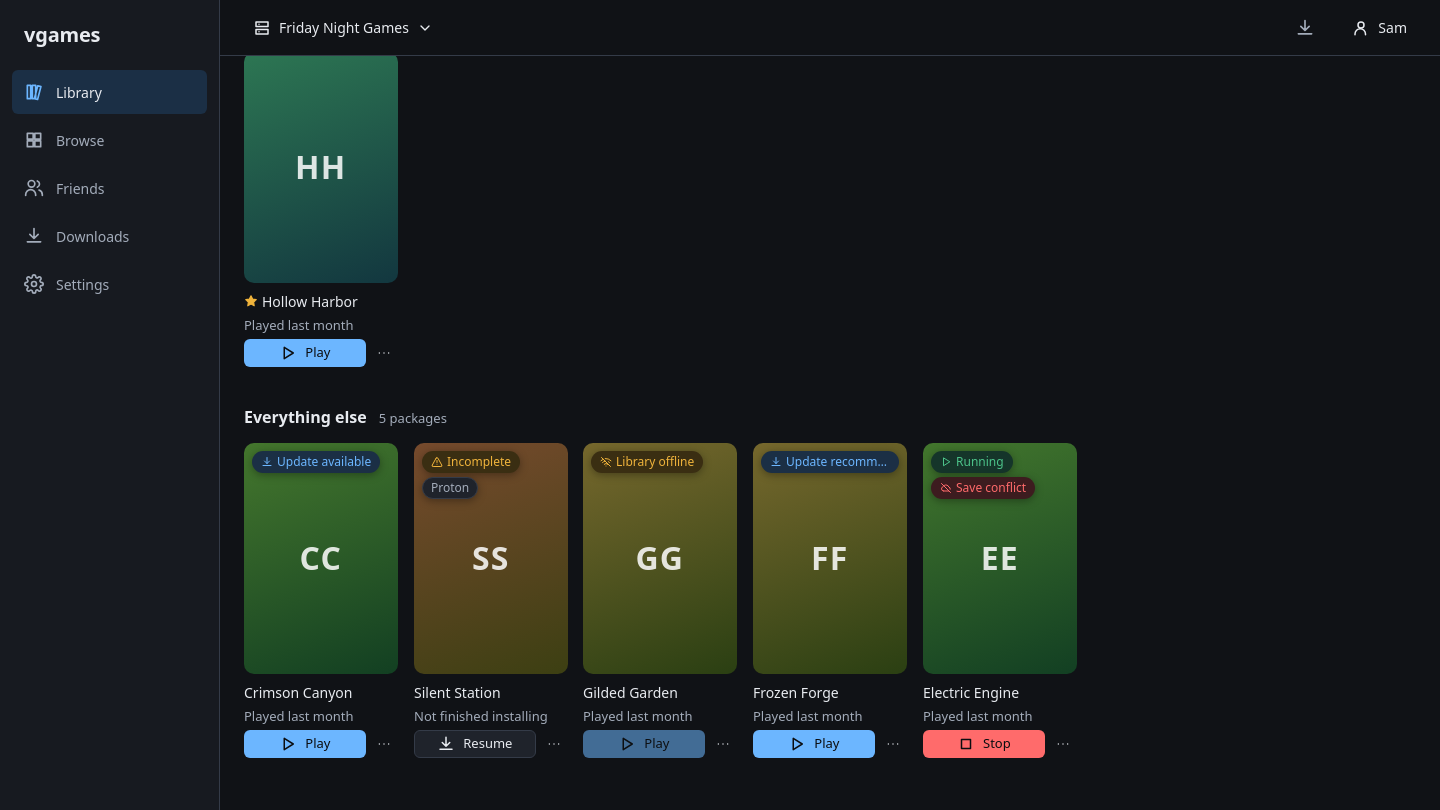
Test case: library › creates shortcuts and reports action errors
(page scrolled)
Expected: the element "Crimson Canyon" is shown, [244,443,398,758]
Click the button named "More actions for Crimson Canyon" at (384, 744), box [370,730,398,758]
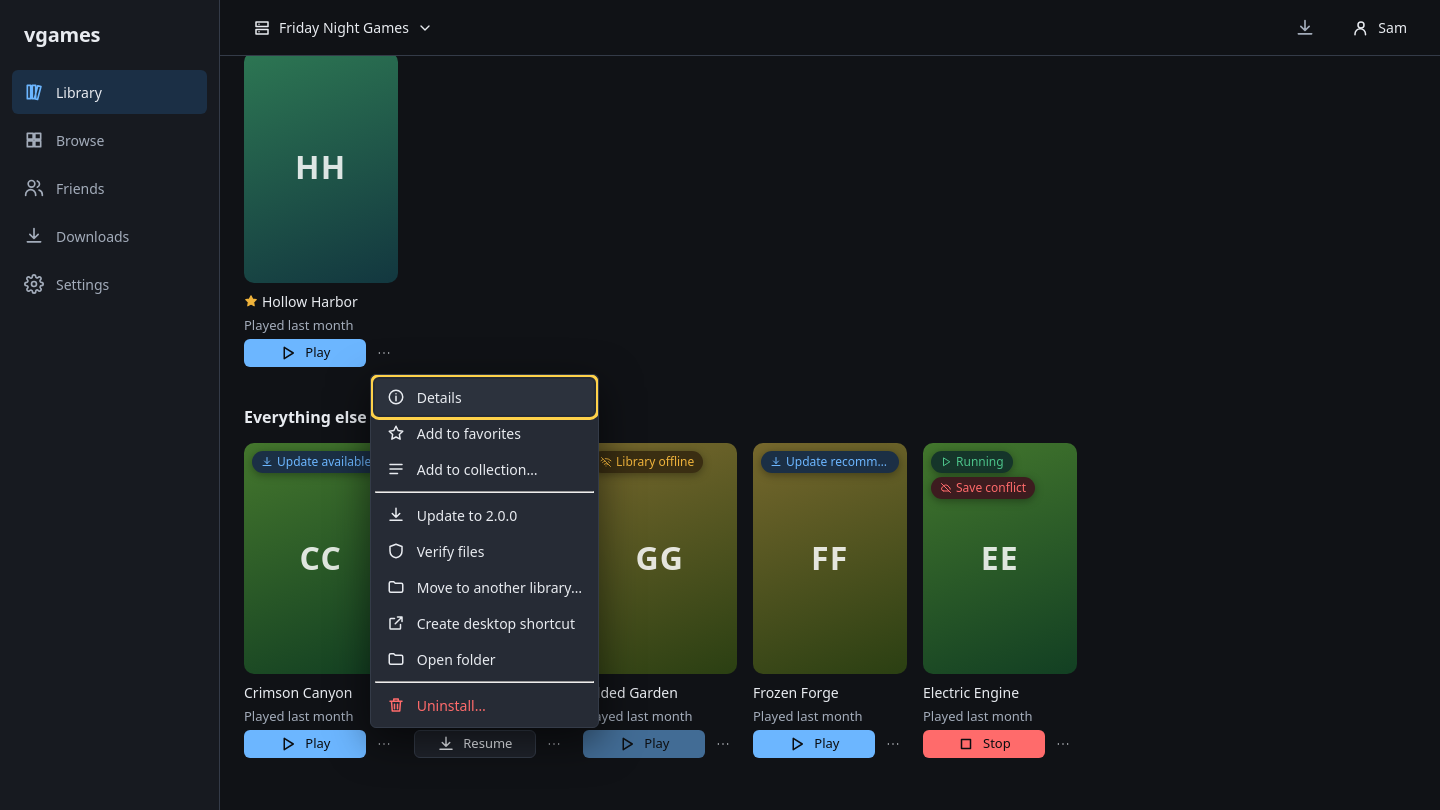
Click the menu item "Create desktop shortcut" at (484, 623), box [375,605,594,641]
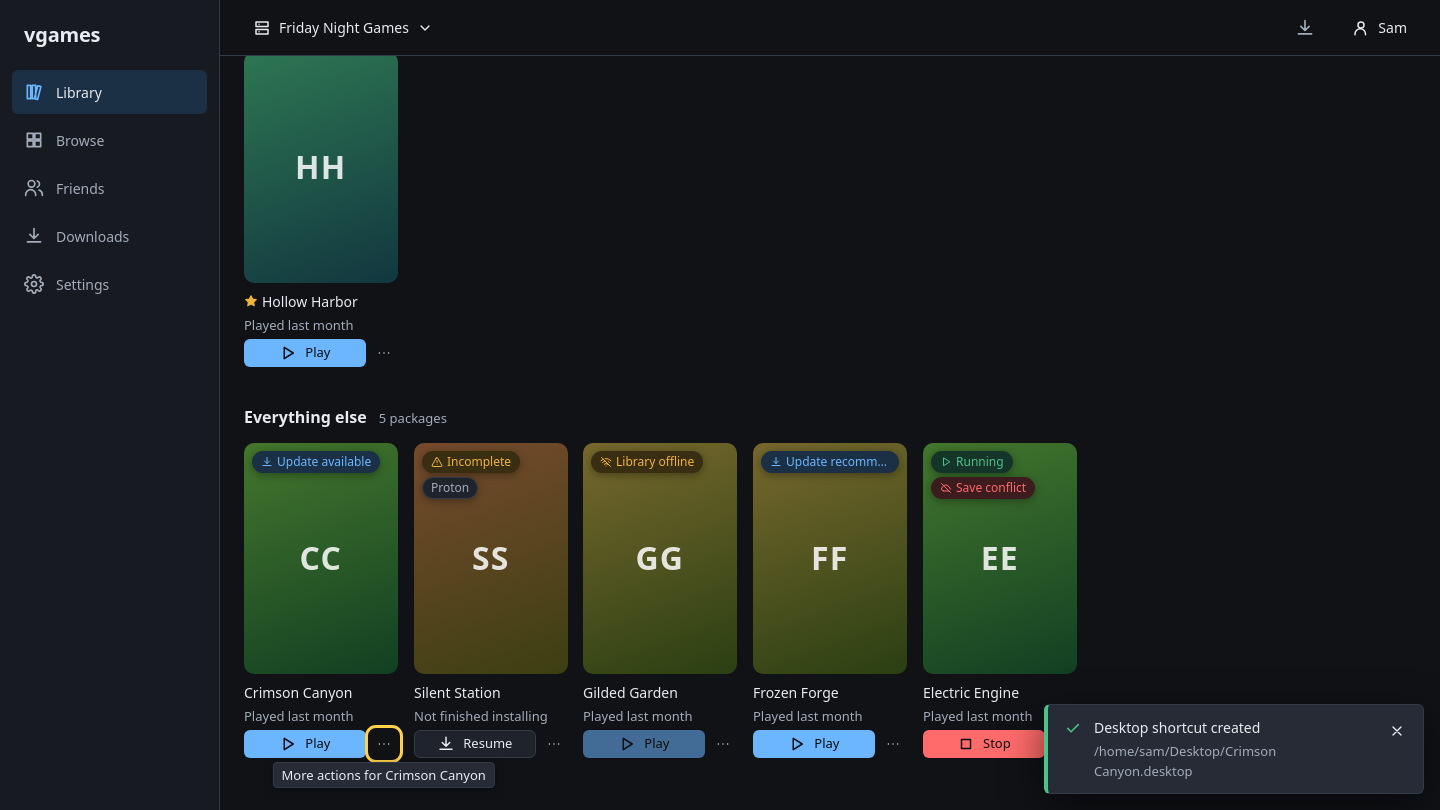
Result: the text "Desktop shortcut created" is shown at [1094,718,1260,737]
Click the button named "More actions for Crimson Canyon" at (384, 744), box [370,730,398,758]
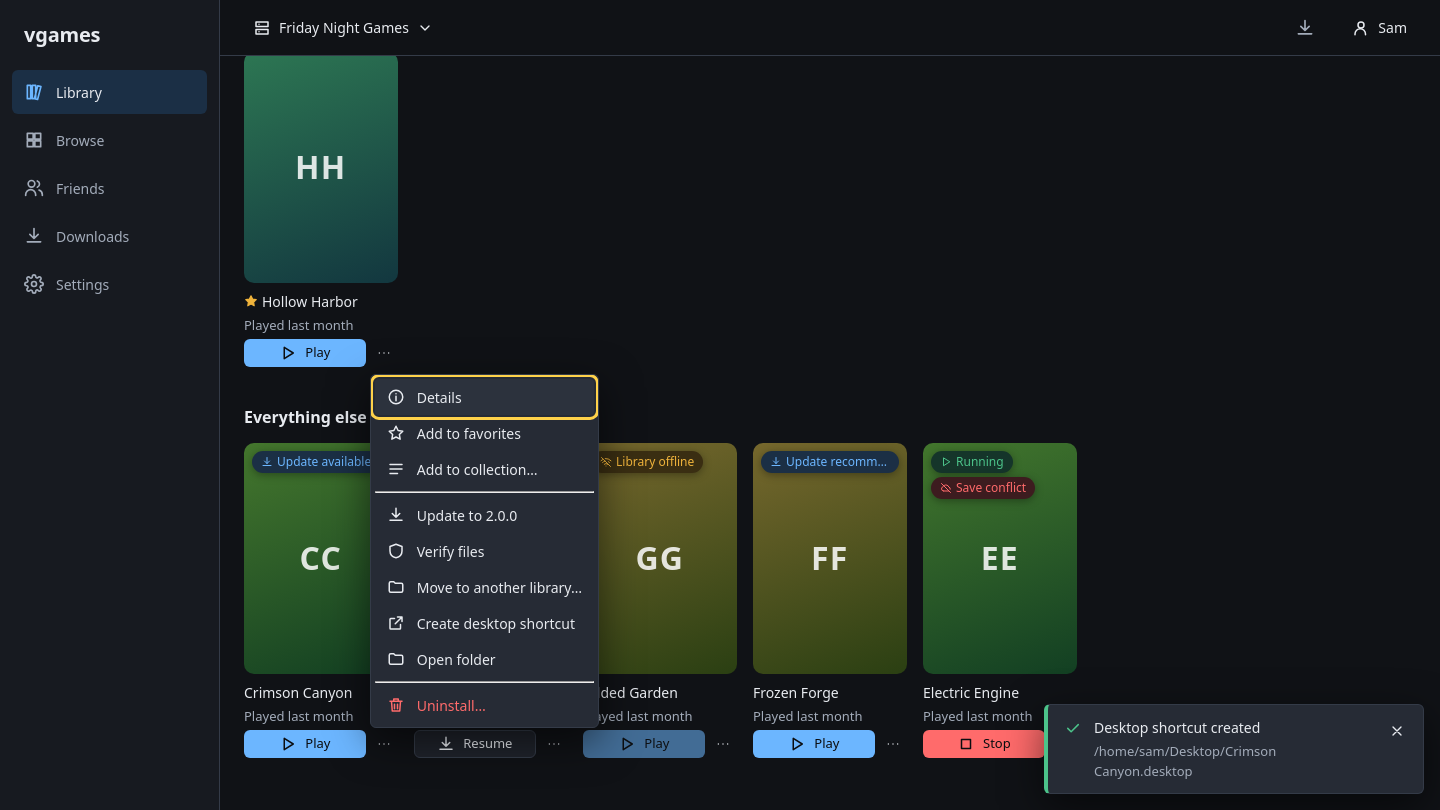
Click the menu item "Verify files" at (484, 551), box [375,533,594,569]
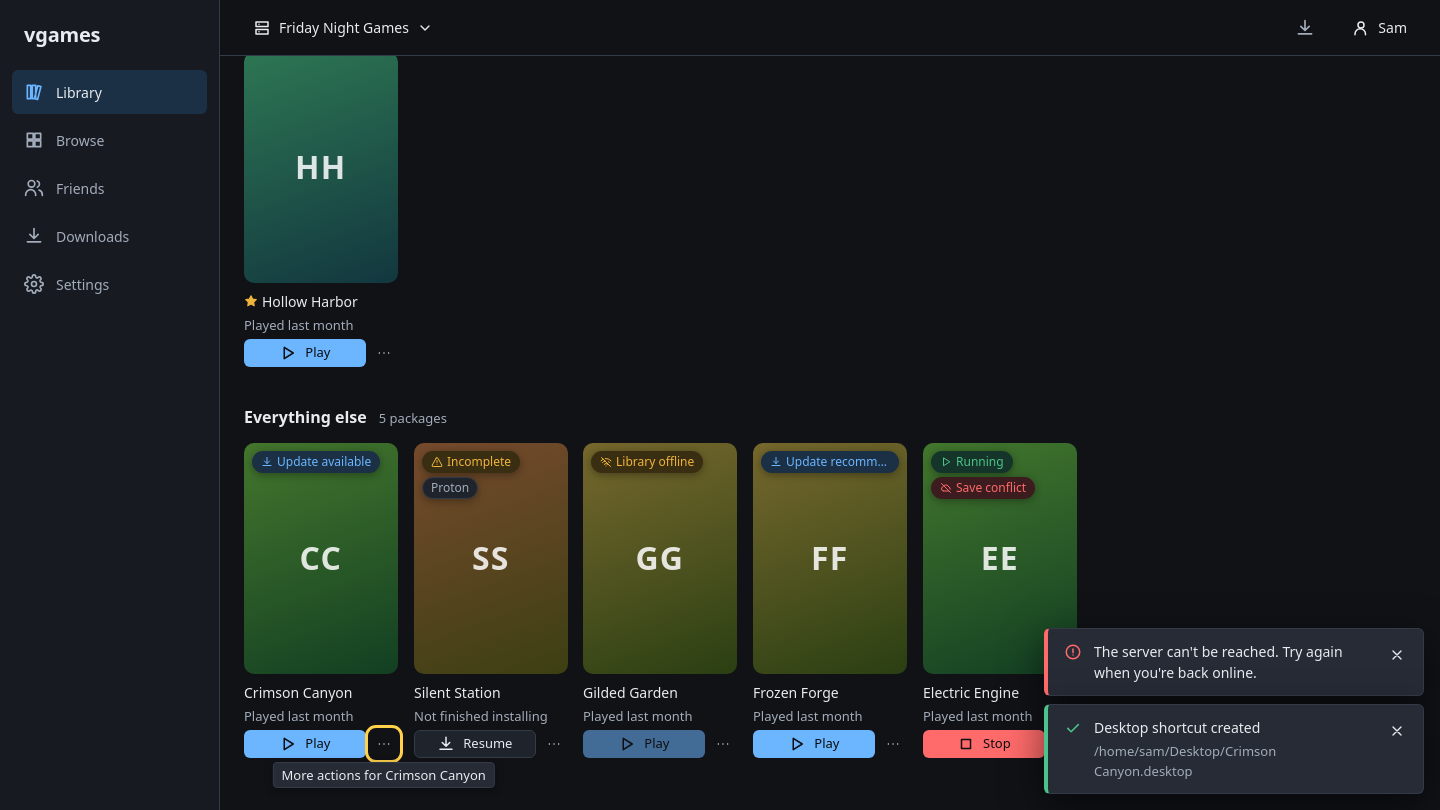
Result: the text "The server can't be reached" is shown at [1094,642,1343,682]
